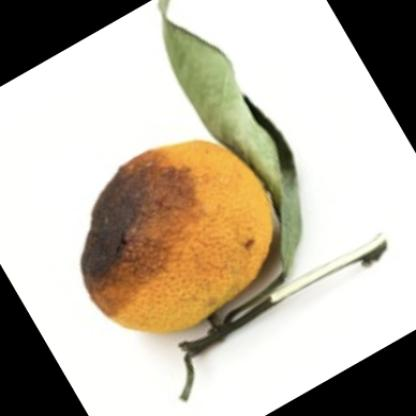rotten: (82, 142, 276, 335)
